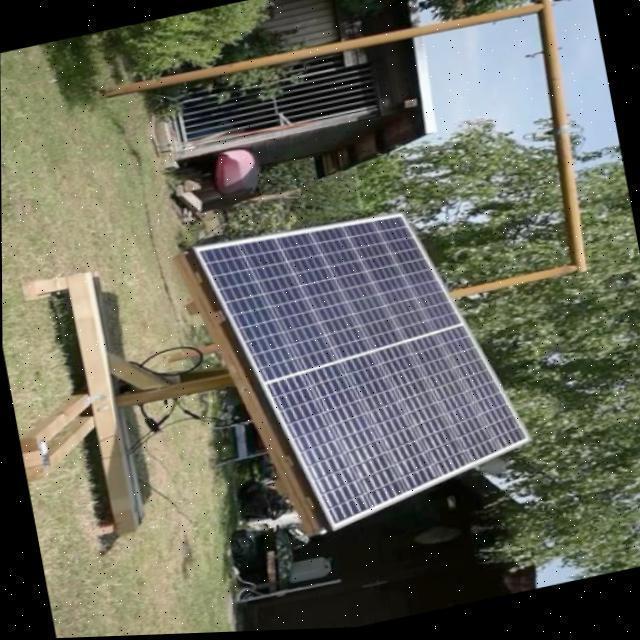Normal Solar Panel: (188, 187, 536, 548)
